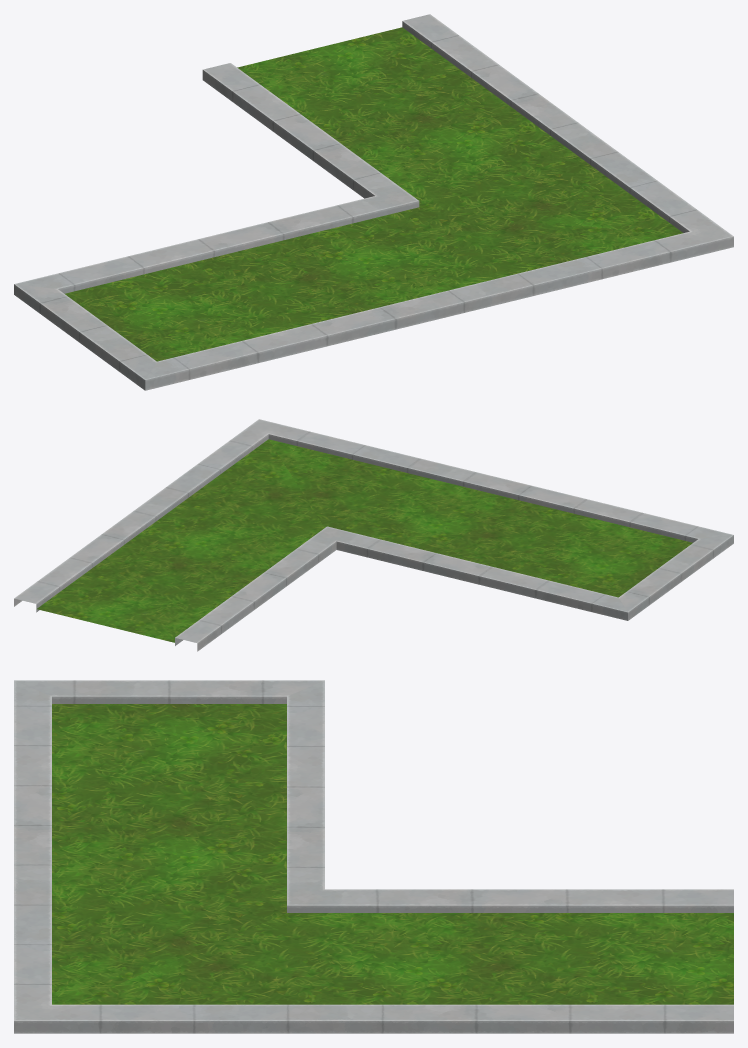
Rendered from flowerBed_low_04.fbx.
3 views of the same model, one above another, from view 1: azimuth 30°, elevation 25°; view 2: azimuth 150°, elevation 25°; view 3: azimuth 270°, elevation 25° (orthographic). The views are drawn at different scales.
Parts seen in each view (by area): view 1: flowerBed_low_04; view 2: flowerBed_low_04; view 3: flowerBed_low_04.
Boxes of the visible parts, box(x1,y1,x2,y2) form: flowerBed_low_04: box(14, 14, 733, 390); flowerBed_low_04: box(14, 419, 733, 651); flowerBed_low_04: box(14, 680, 733, 1033).
Bounding box in the file's own units: 428 × 7.39 × 383.
